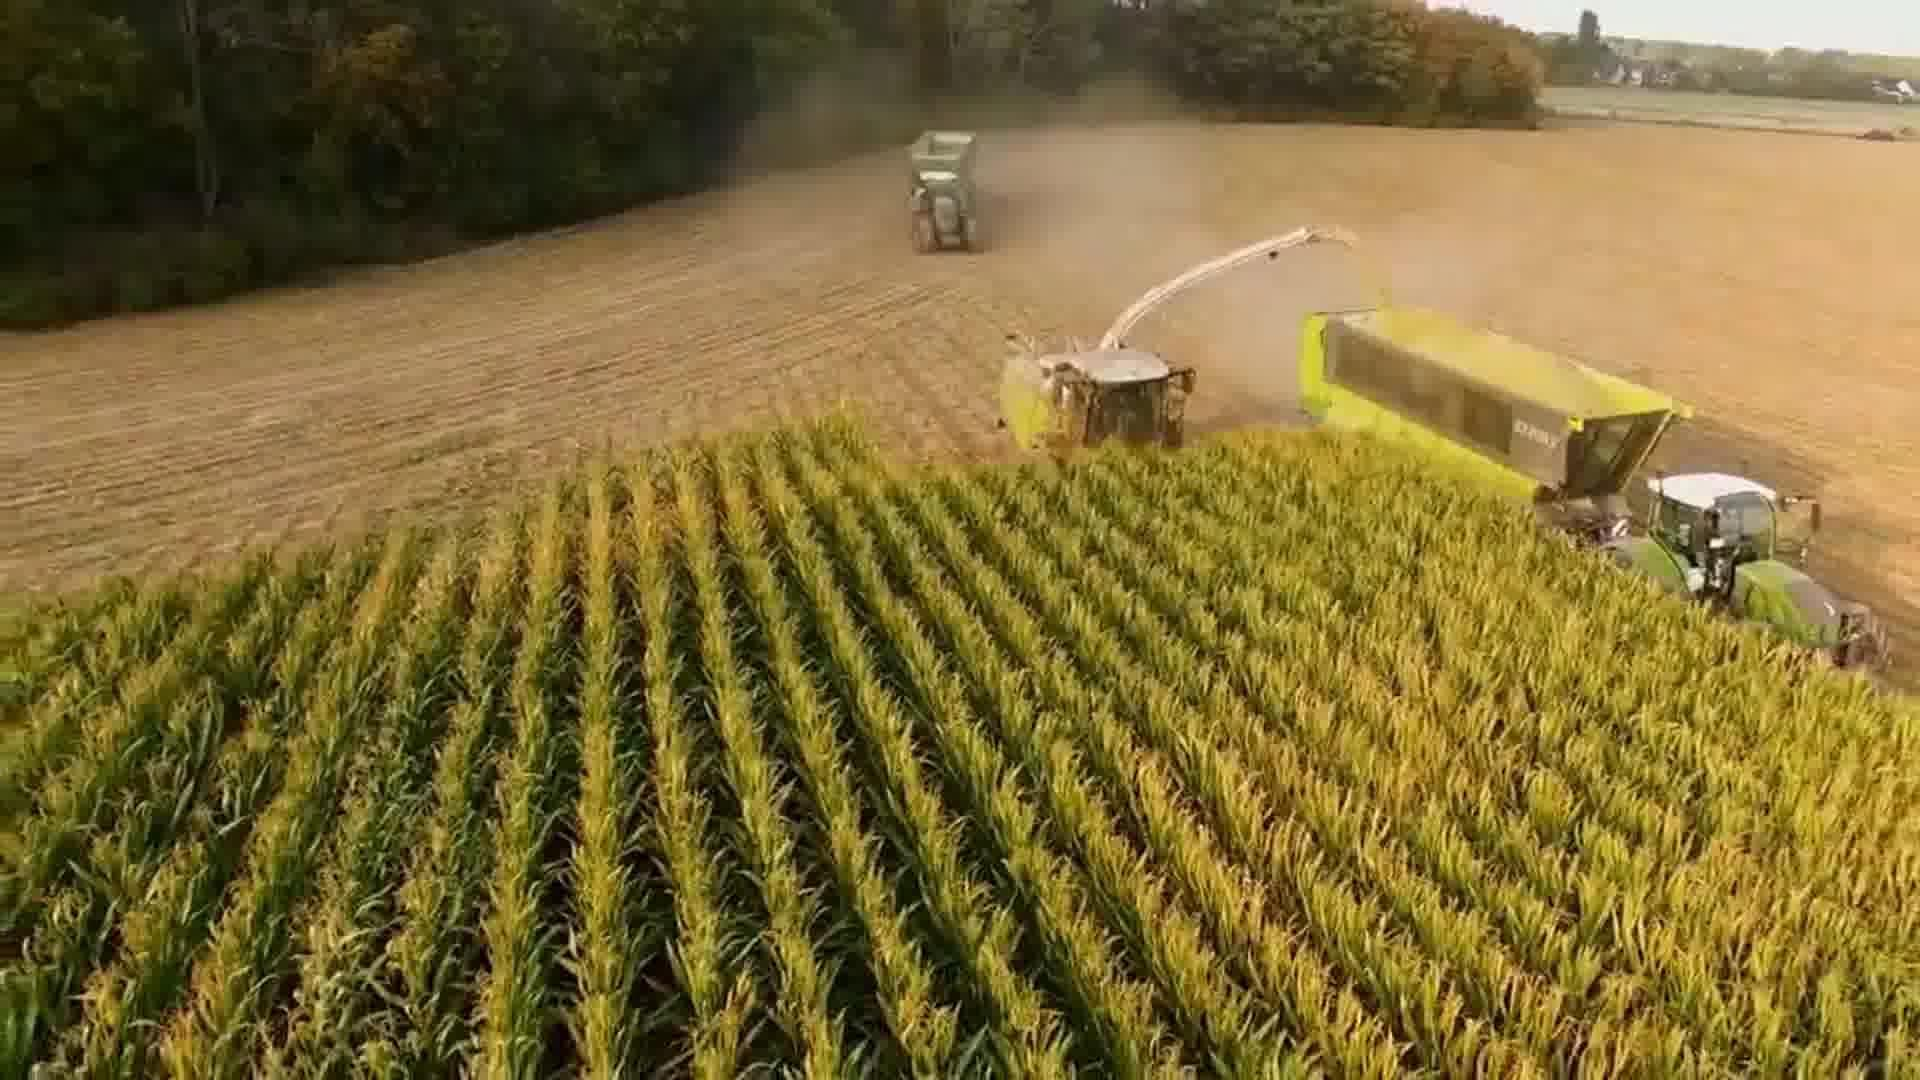combine harvester: (992, 220, 1341, 500)
tractor: (1571, 459, 1902, 715), (898, 167, 985, 257)
trailer: (1288, 289, 1698, 567), (898, 121, 981, 195)
